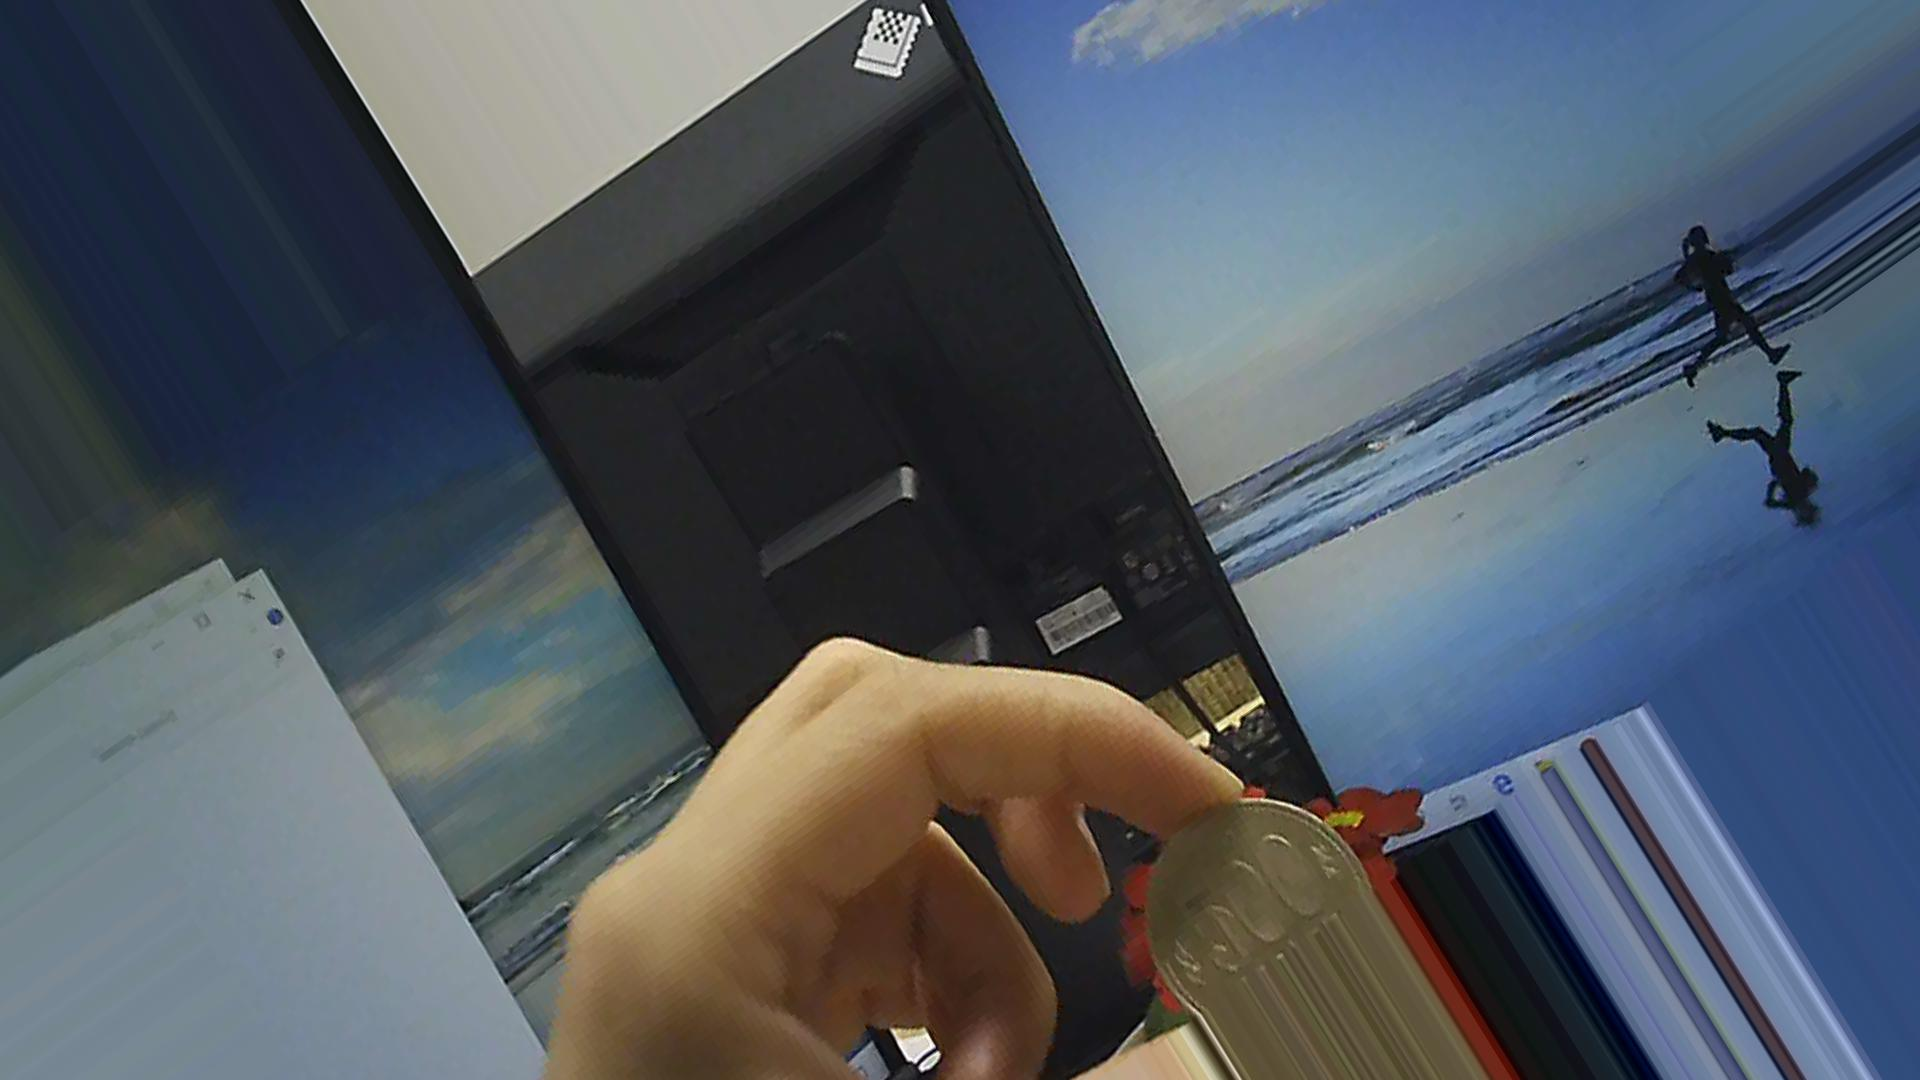500 Yen: (1134, 785, 1373, 996)
